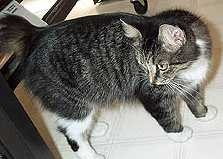Cat: (20, 9, 211, 151)
